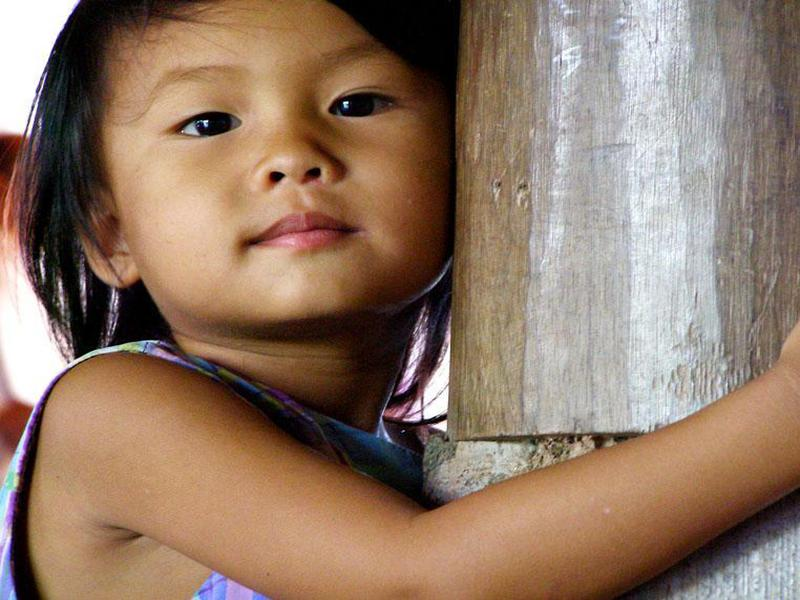person: (13, 2, 679, 600)
